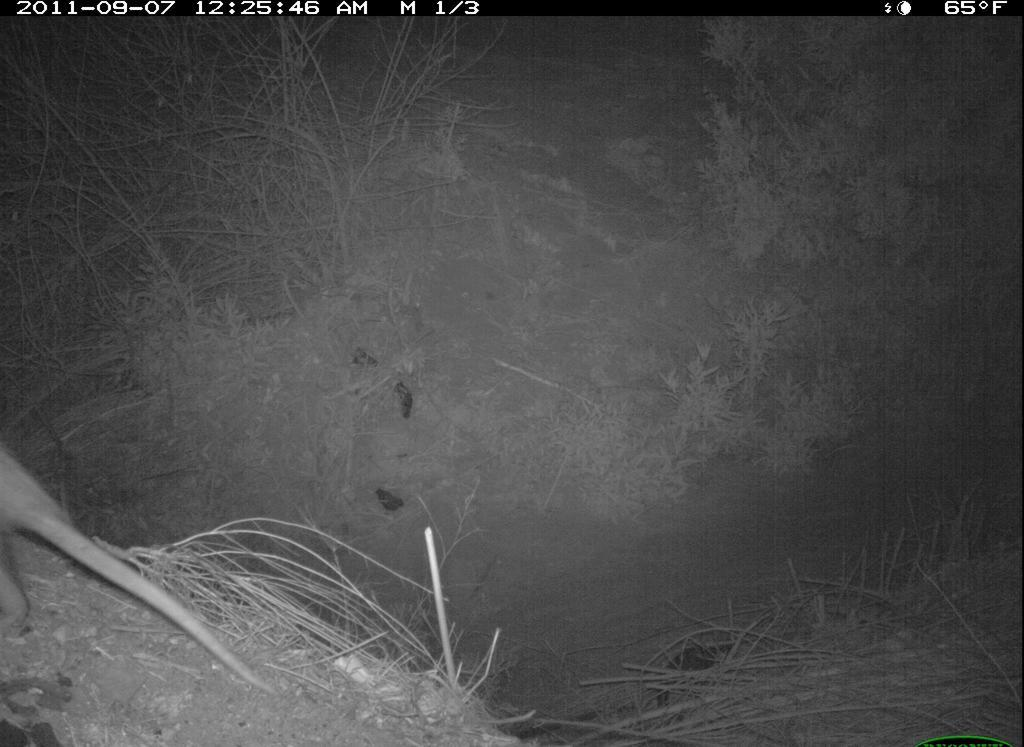opossum: (6, 445, 297, 699)
